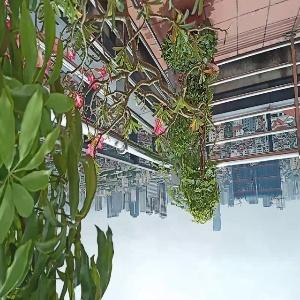drone: (100, 128, 135, 163)
